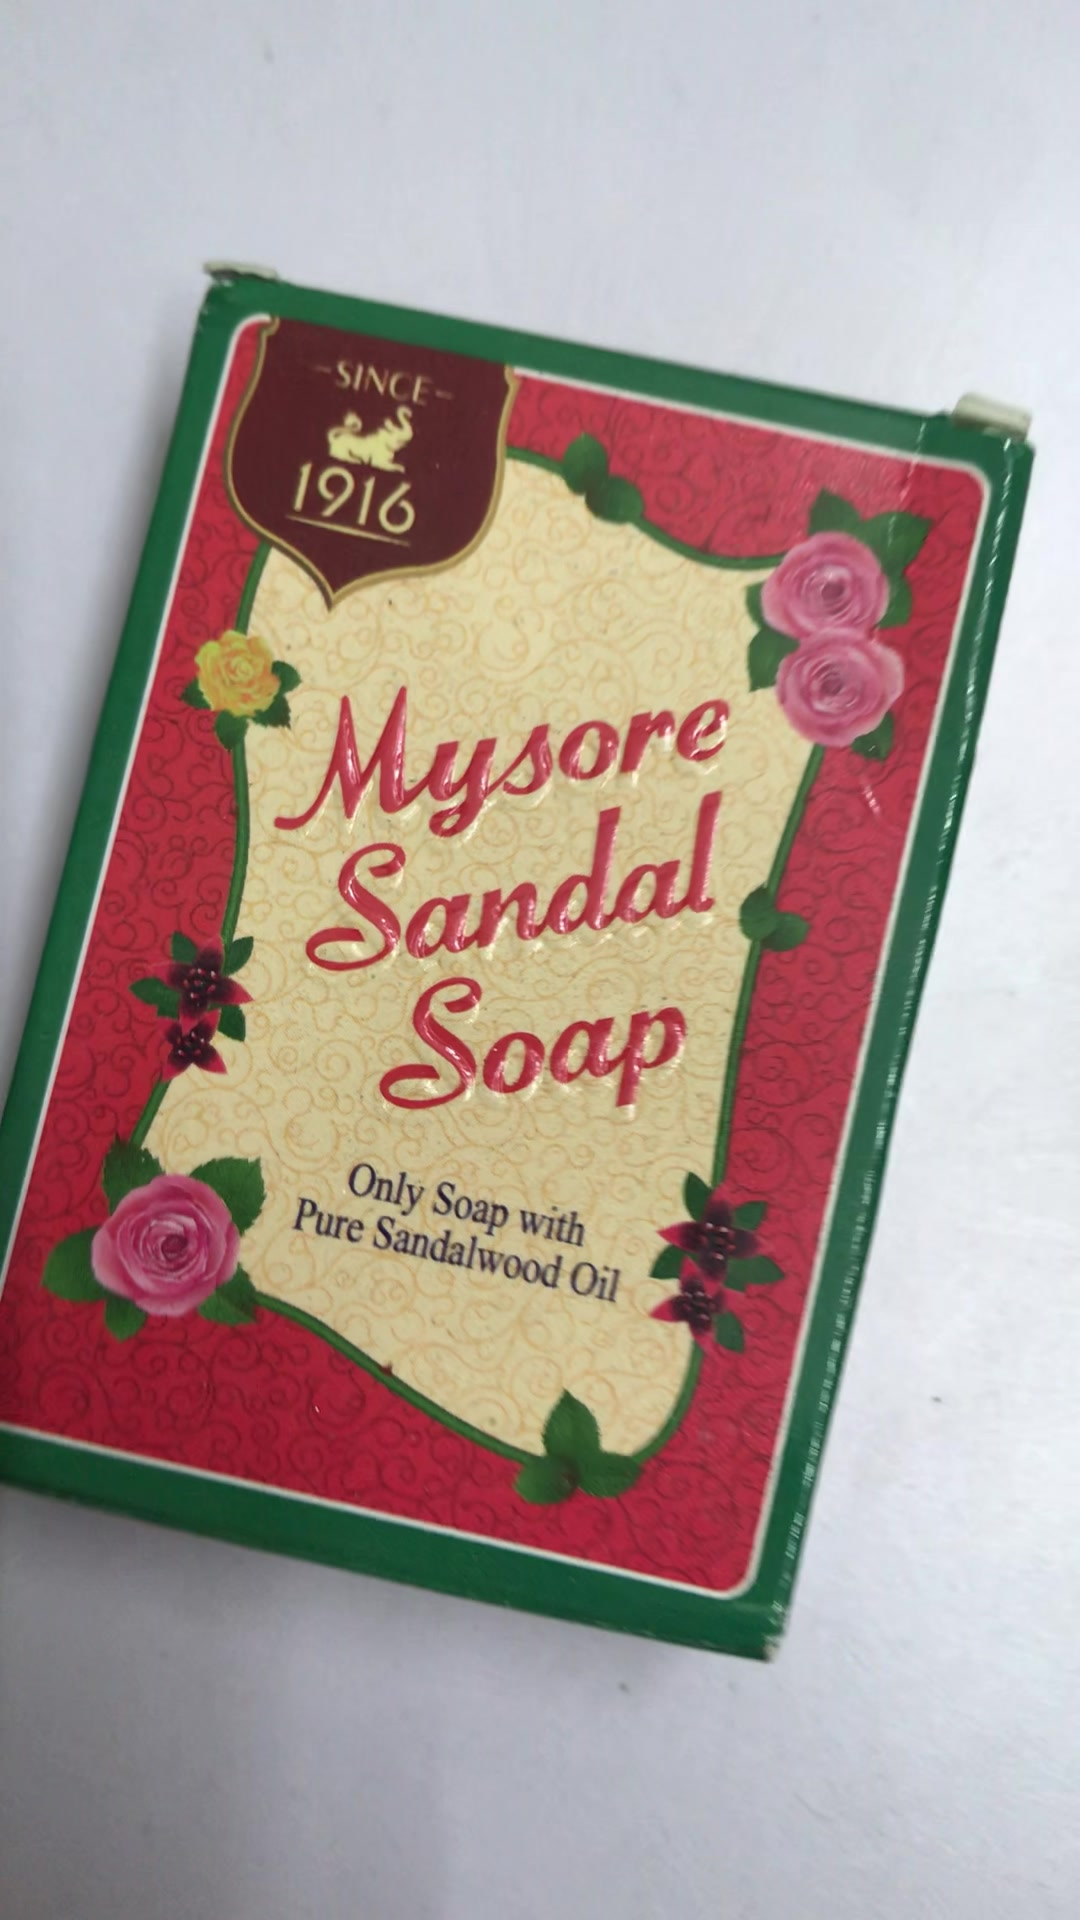mysore sandal soap: (5, 266, 1034, 1669)
